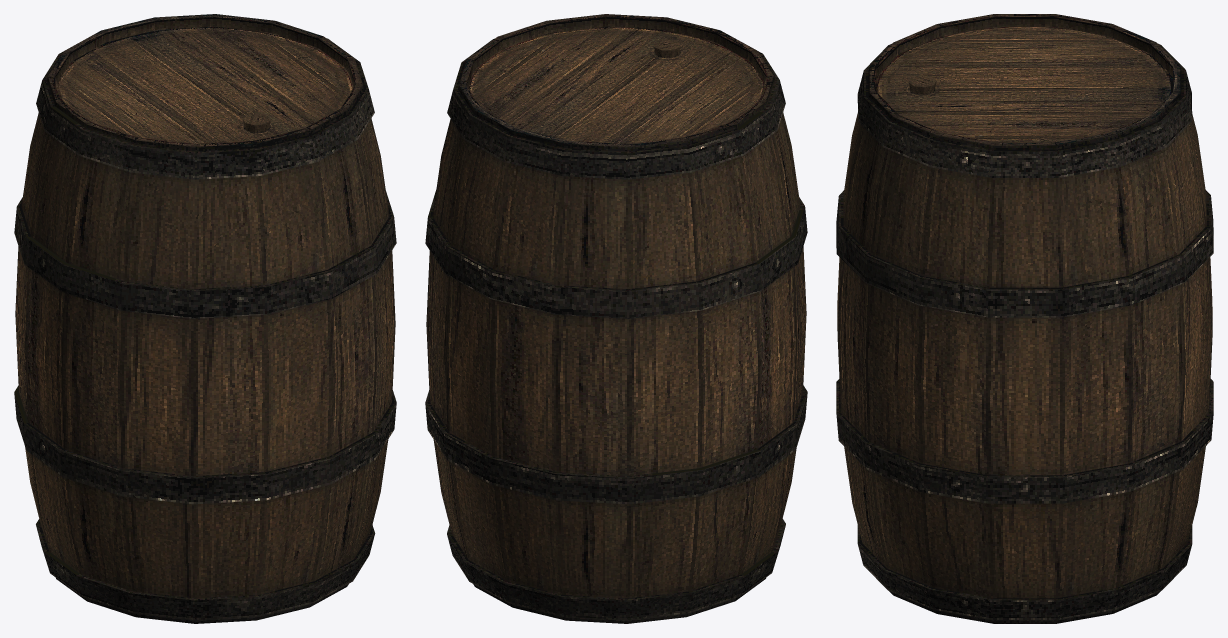
The model's file is wooden_barrel_1.glb.
3 views of the same model, side by side, from view 1: azimuth 30°, elevation 25°; view 2: azimuth 150°, elevation 25°; view 3: azimuth 270°, elevation 25° (orthographic).
Visible parts, largest first — view 1: wooden_barrel_1; view 2: wooden_barrel_1; view 3: wooden_barrel_1.
Part boxes in pixels (box(x1,y1,x2,y2)): wooden_barrel_1: box(14, 14, 396, 623); wooden_barrel_1: box(425, 14, 807, 623); wooden_barrel_1: box(836, 14, 1213, 623).
Size of the model in its own units: 0.7863 by 1.1 by 0.7863.
Materials: 1 (1 with a texture image).
